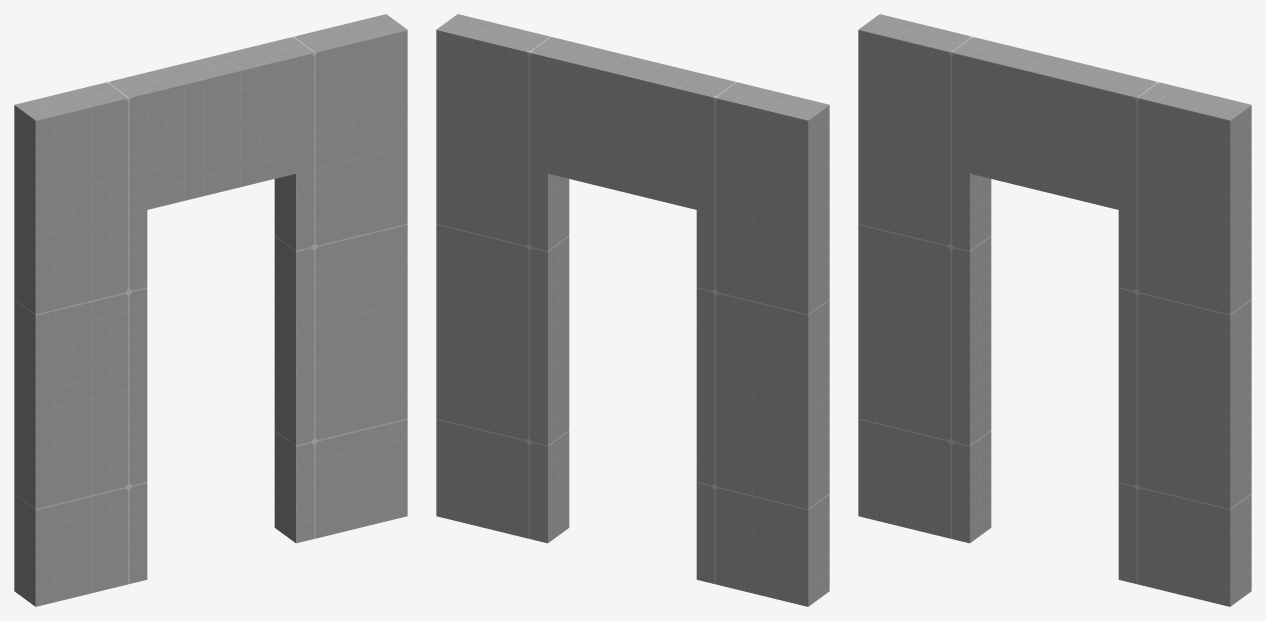
Rendered from Door_1x2.001.fbx.
3 renders of one model, left to right at view 1: azimuth 30°, elevation 25°; view 2: azimuth 150°, elevation 25°; view 3: azimuth 330°, elevation 25°, orthographic.
Parts seen in each view (by area): view 1: Door_1x2.001; view 2: Door_1x2.001; view 3: Door_1x2.001.
Part boxes in pixels (bbox=[...]): Door_1x2.001: bbox=[14, 14, 407, 606]; Door_1x2.001: bbox=[436, 14, 829, 606]; Door_1x2.001: bbox=[858, 14, 1251, 606].
Bounding box in the file's own units: 200 × 250 × 20.
